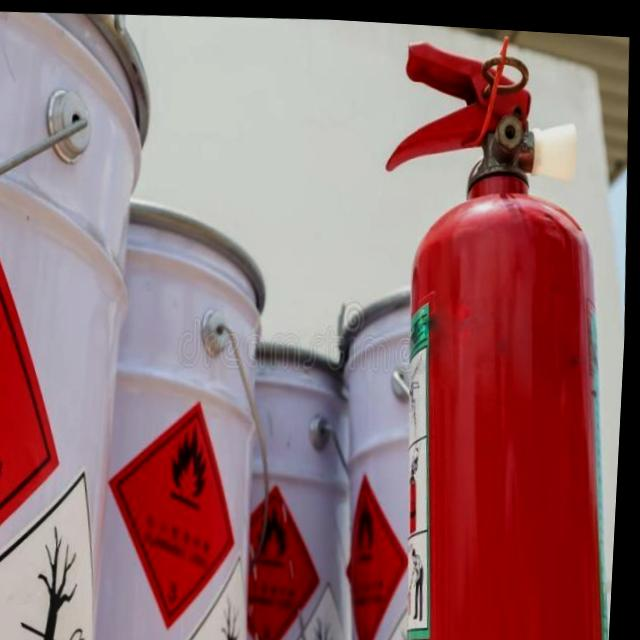FireExtinguisher: (356, 20, 640, 640)
